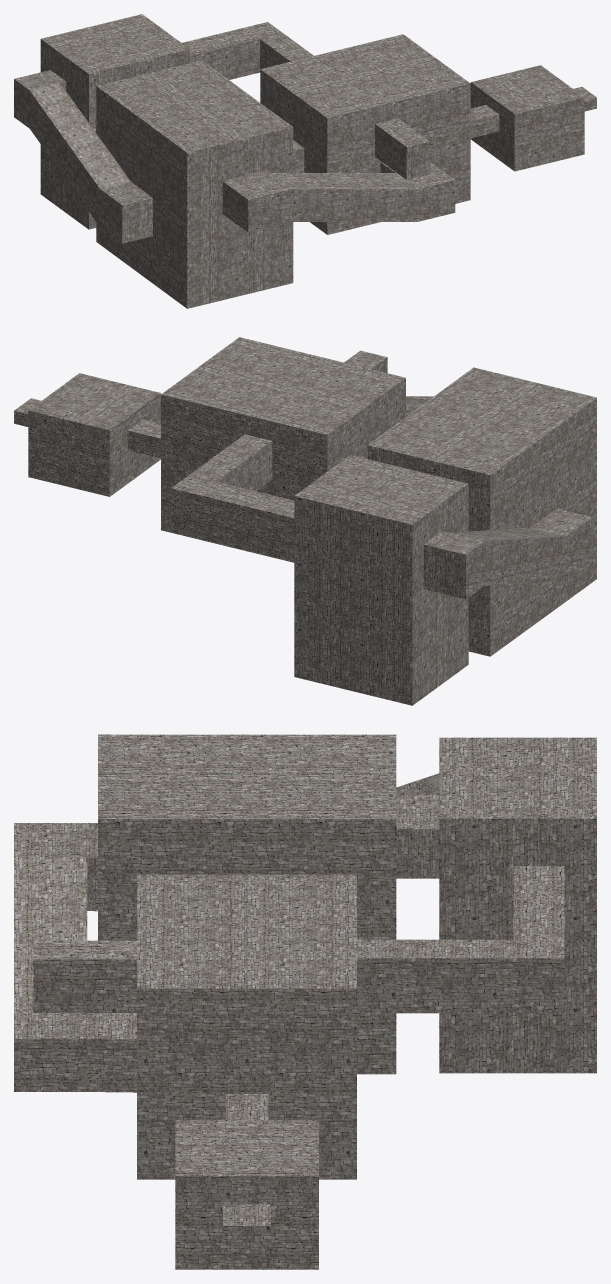
The model's file is Castle Level.fbx.
3 renders of one model, top to bottom at view 1: azimuth 30°, elevation 25°; view 2: azimuth 150°, elevation 25°; view 3: azimuth 270°, elevation 25°, orthographic. The views are drawn at different scales.
Visible parts, largest first — view 1: Level; view 2: Level; view 3: Level.
Boxes of the visible parts, left/top/right/bottom form: Level: left=14, top=14, right=596, bottom=308; Level: left=14, top=337, right=596, bottom=705; Level: left=14, top=734, right=596, bottom=1269.
Size of the model in its own units: 42977 by 13476 by 27734.
